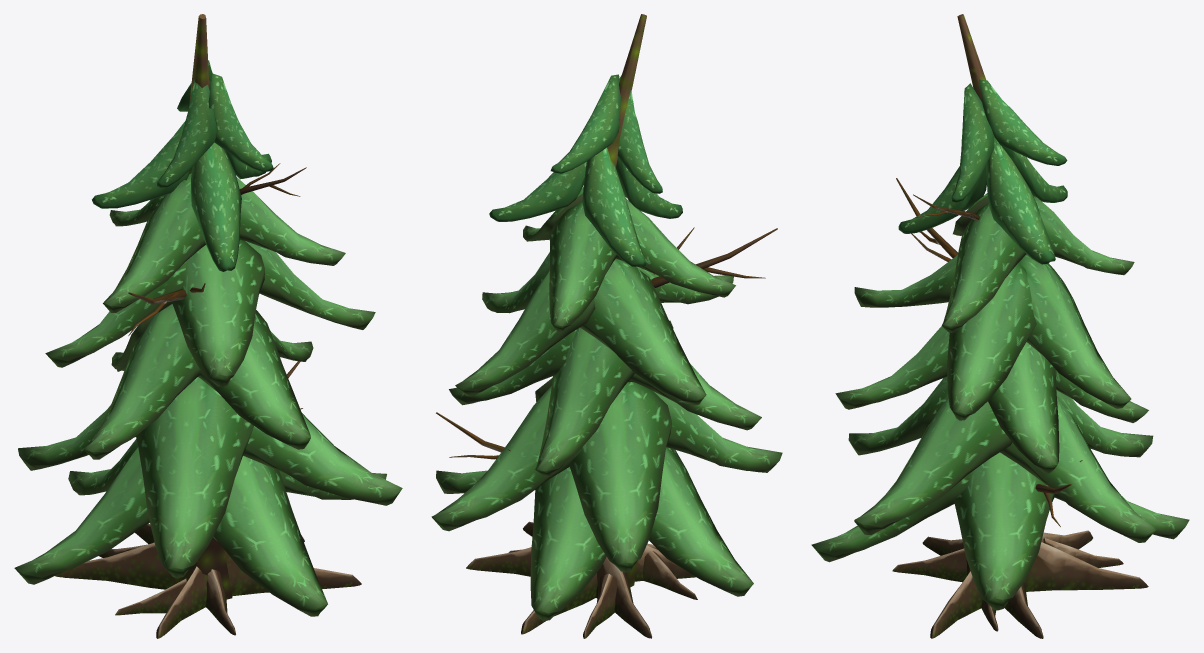
Rendered from tree1.fbx.
The picture shows the model from 3 angles, left to right: view 1: azimuth 30°, elevation 25°; view 2: azimuth 150°, elevation 25°; view 3: azimuth 270°, elevation 25°; orthographic projection. The views are drawn at different scales.
Parts seen in each view (by area): view 1: Дерево.002; view 2: Дерево.002; view 3: Дерево.002.
Boxes of the visible parts, left/top/right/bottom form: Дерево.002: left=14, top=14, right=402, bottom=638; Дерево.002: left=431, top=14, right=782, bottom=638; Дерево.002: left=811, top=14, right=1189, bottom=638.
Bounding box in the file's own units: 6.49 × 10.4 × 6.37.
